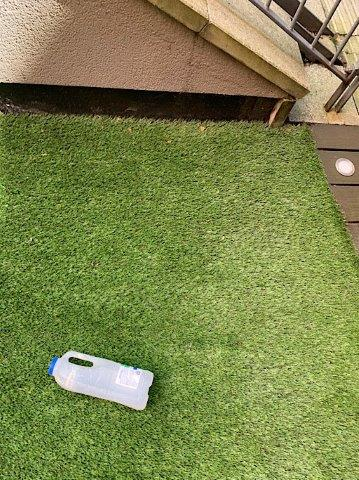botolplastik: (50, 352, 151, 408)
